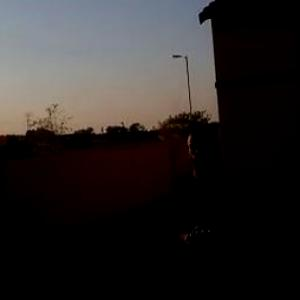follow: (168, 113, 267, 299)
